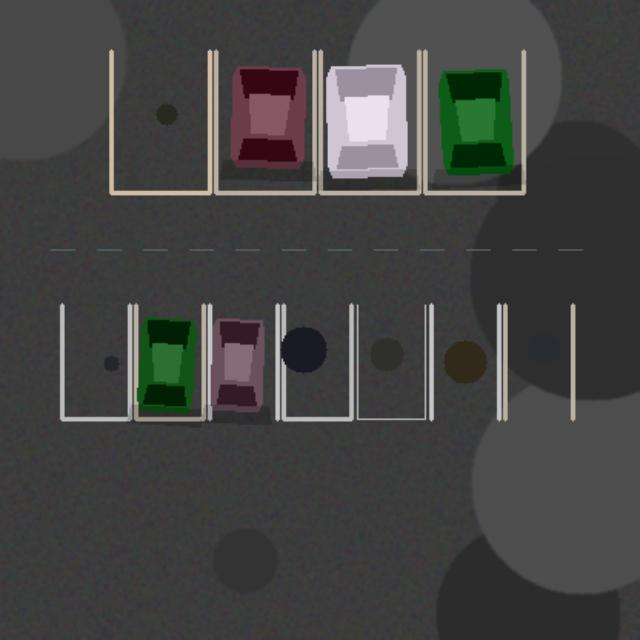space-empty: (111, 51, 209, 192), (283, 305, 351, 418), (357, 305, 425, 418), (62, 305, 129, 418), (431, 305, 498, 418), (505, 305, 572, 418)
space-occupied: (215, 51, 314, 192), (320, 51, 418, 192), (425, 51, 523, 192), (135, 305, 203, 418), (209, 305, 277, 418)
